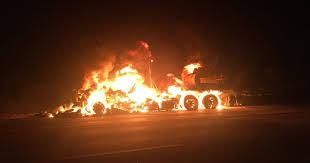fire: (58, 59, 234, 115)
